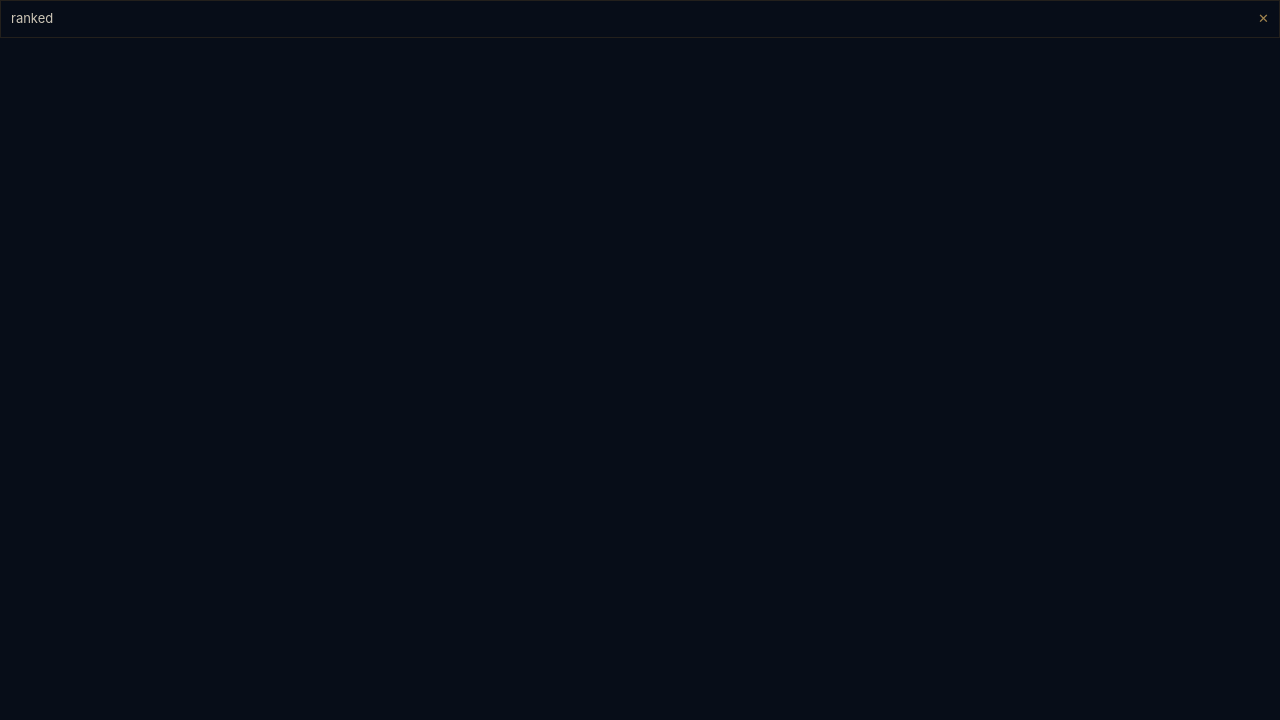
Scenario: deleting a profile › asks in a dialog that starts on Cancel
The width and height of the screenshot is (1280, 720).
Click the button named "Delete ranked" at x=1264, y=19, box [1248,1,1279,36]
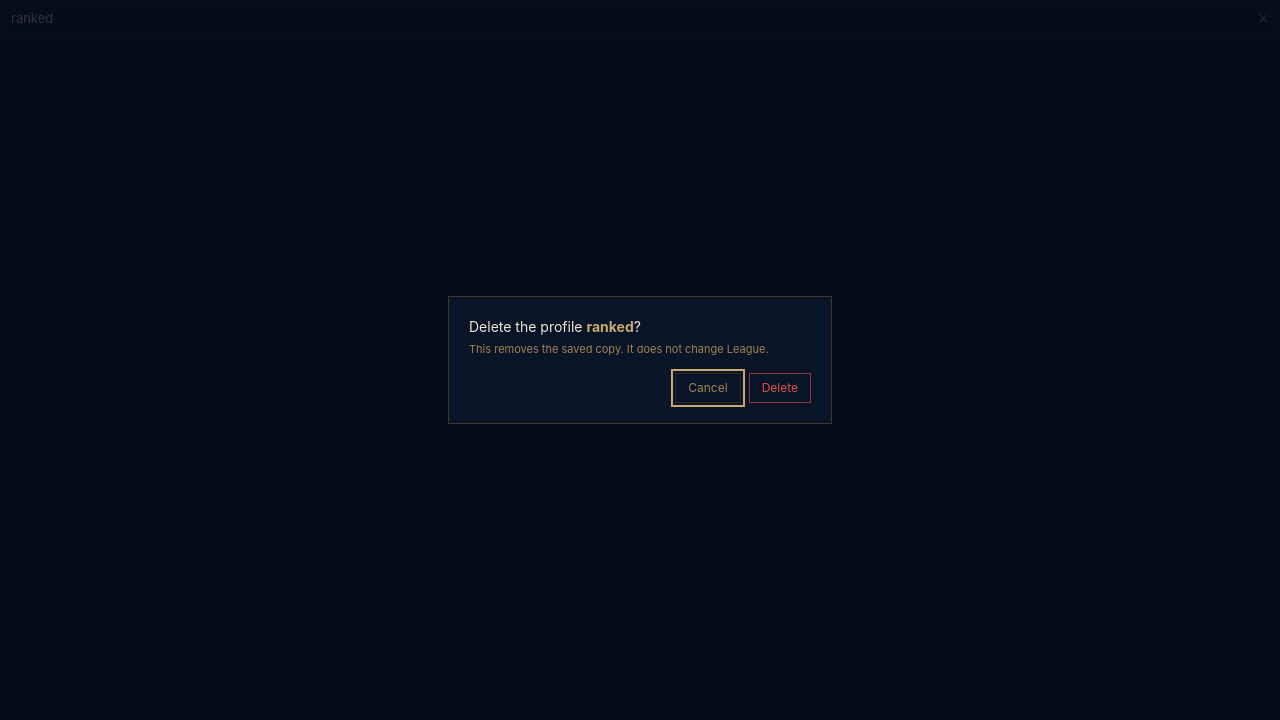
Now the dialog "Delete the profile ranked" is shown, box [448,296,832,424]
